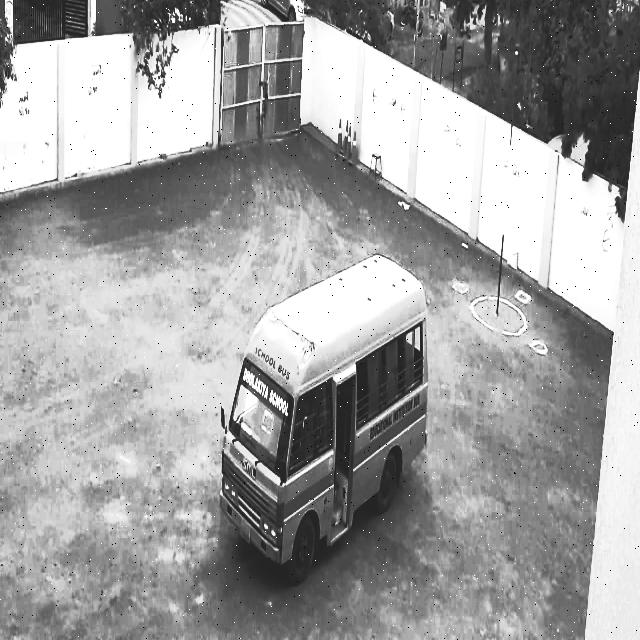Bus: (212, 242, 448, 599)
